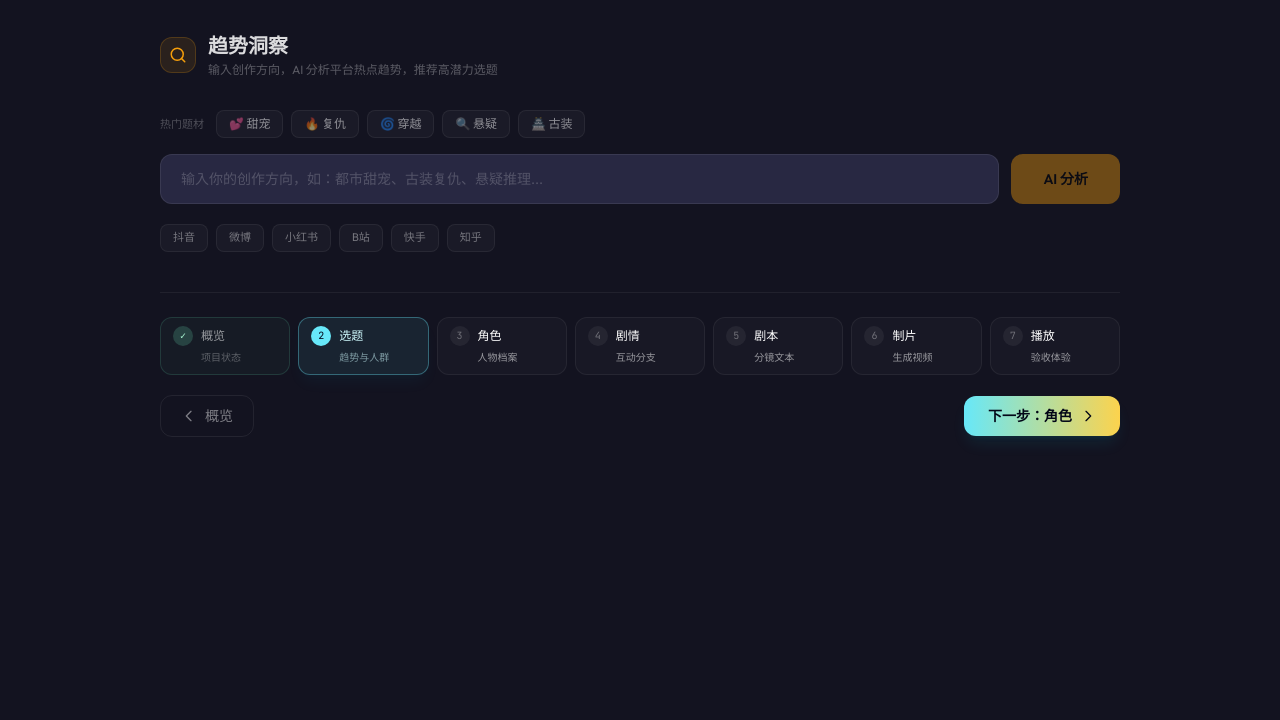
ProphetPanel › 交互测试 › shows loading state during analysis
The width and height of the screenshot is (1280, 720).
Type "甜宠短剧" into the field with placeholder "输入你的创作方向，如：都市甜宠、古装复仇、悬疑推理...". click: (580, 179)
box: [160,154,999,204]
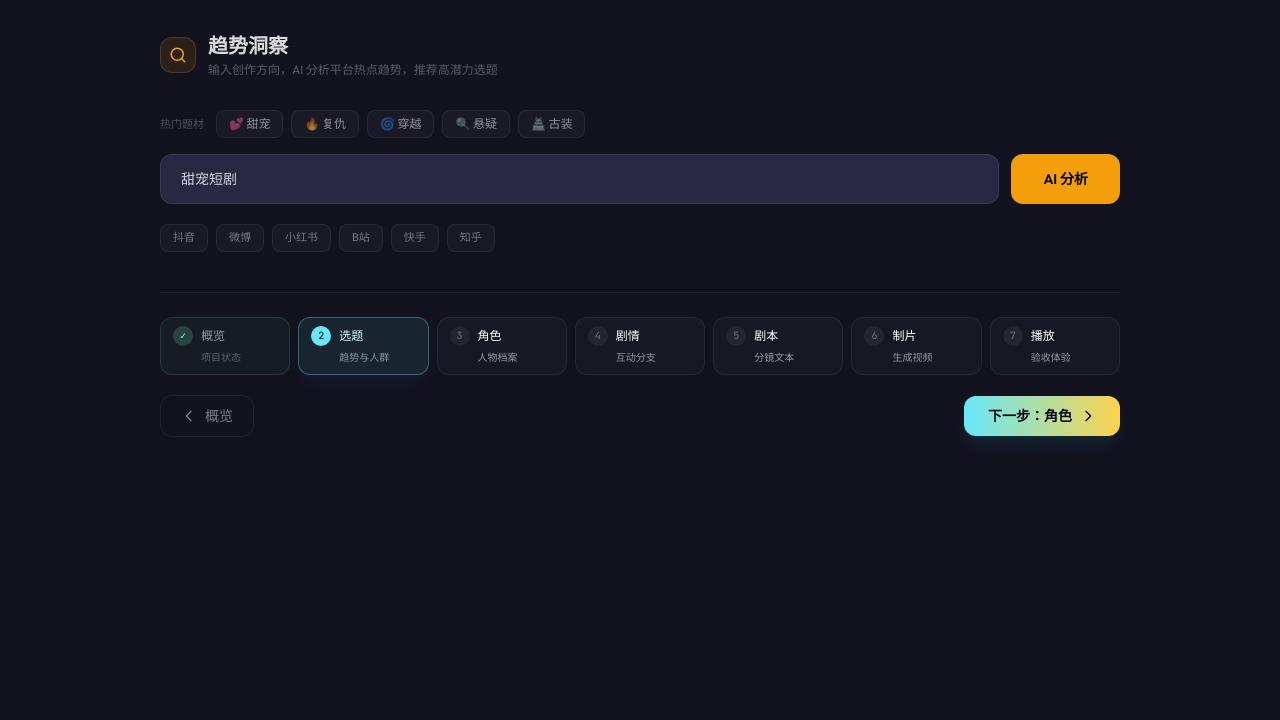
Click the button "AI 分析". click: (1066, 179)
box: [1011,154,1120,204]
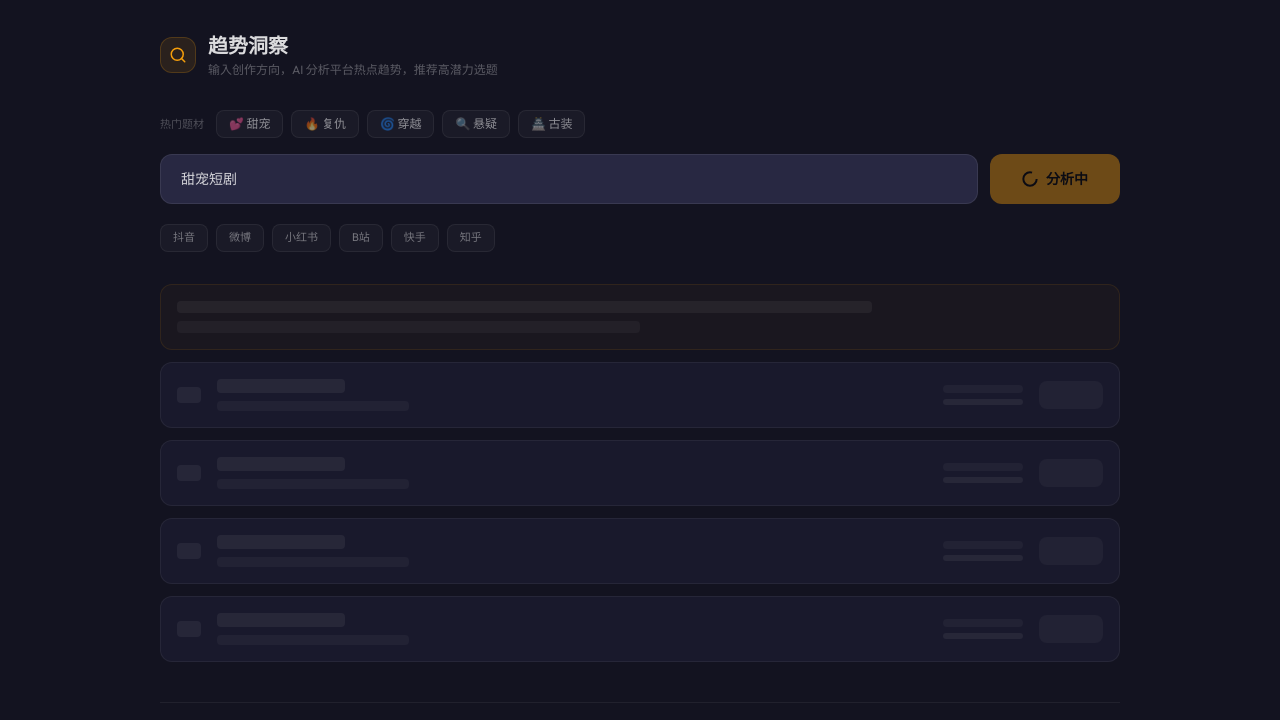
Now the text "分析中" is shown, box [1022,169,1088,189]
